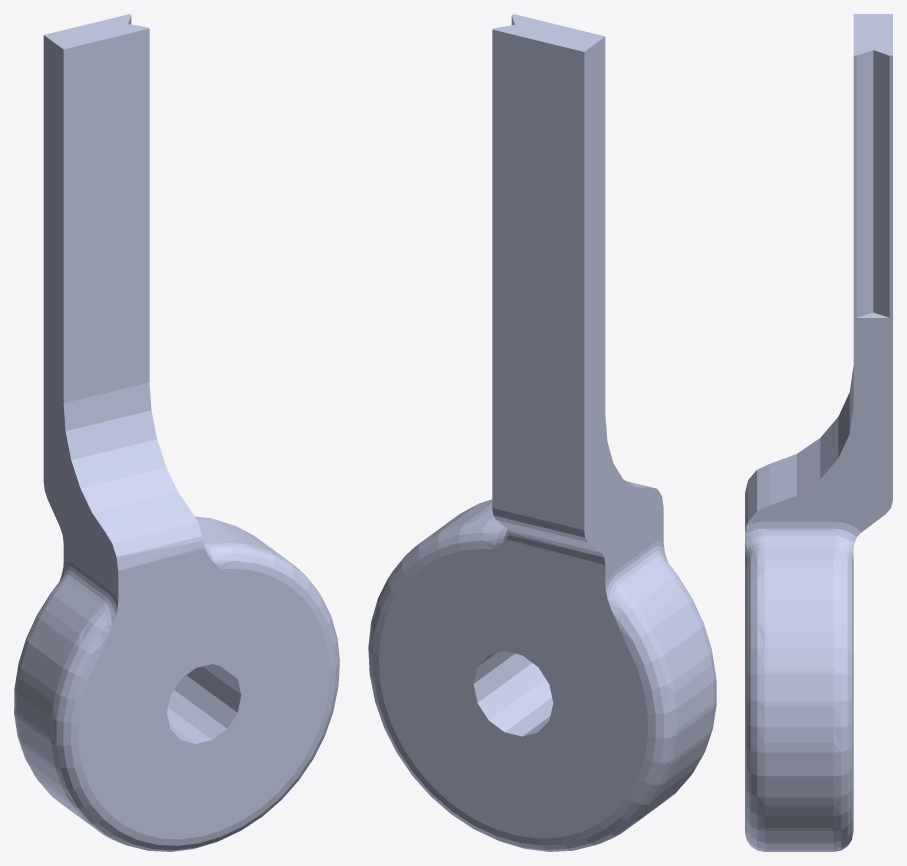
File: ur5e_new_dvrk_yaw_ref2_visual_vis_1.dae
3 views of the same model, side by side, from view 1: azimuth 30°, elevation 25°; view 2: azimuth 150°, elevation 25°; view 3: azimuth 270°, elevation 25° (orthographic). The views are drawn at different scales.
Parts seen in each view (by area): view 1: Node_0000024FAC4E6200; view 2: Node_0000024FAC4E6200; view 3: Node_0000024FAC4E6200.
Part boxes in pixels (<box>): Node_0000024FAC4E6200: <box>14,14,339,851</box>; Node_0000024FAC4E6200: <box>368,14,716,851</box>; Node_0000024FAC4E6200: <box>745,14,892,851</box>.
Bounding box in the file's own units: 0.005 × 0.0131 × 0.00225.
